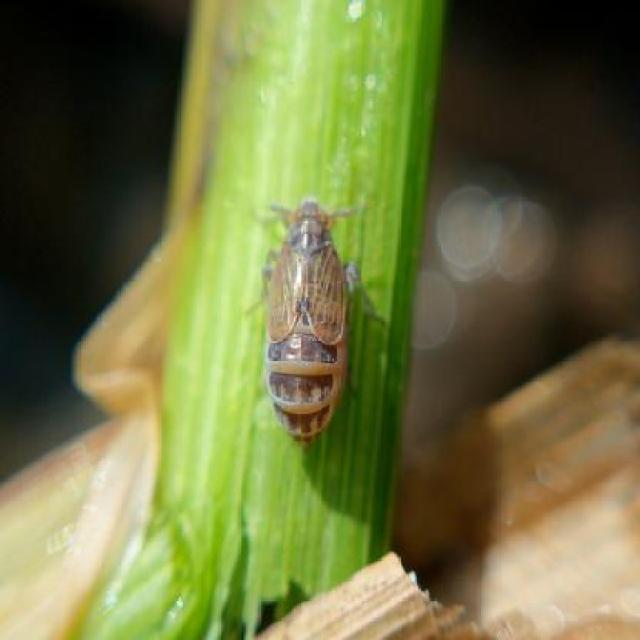wereng pada daun padi: (244, 192, 384, 450)
